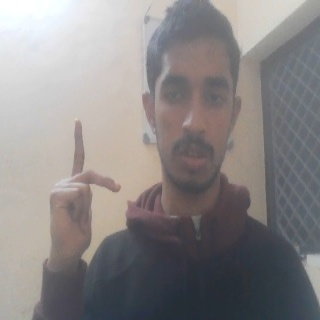Face: (141, 4, 243, 194)
Okay: (45, 116, 122, 267)
